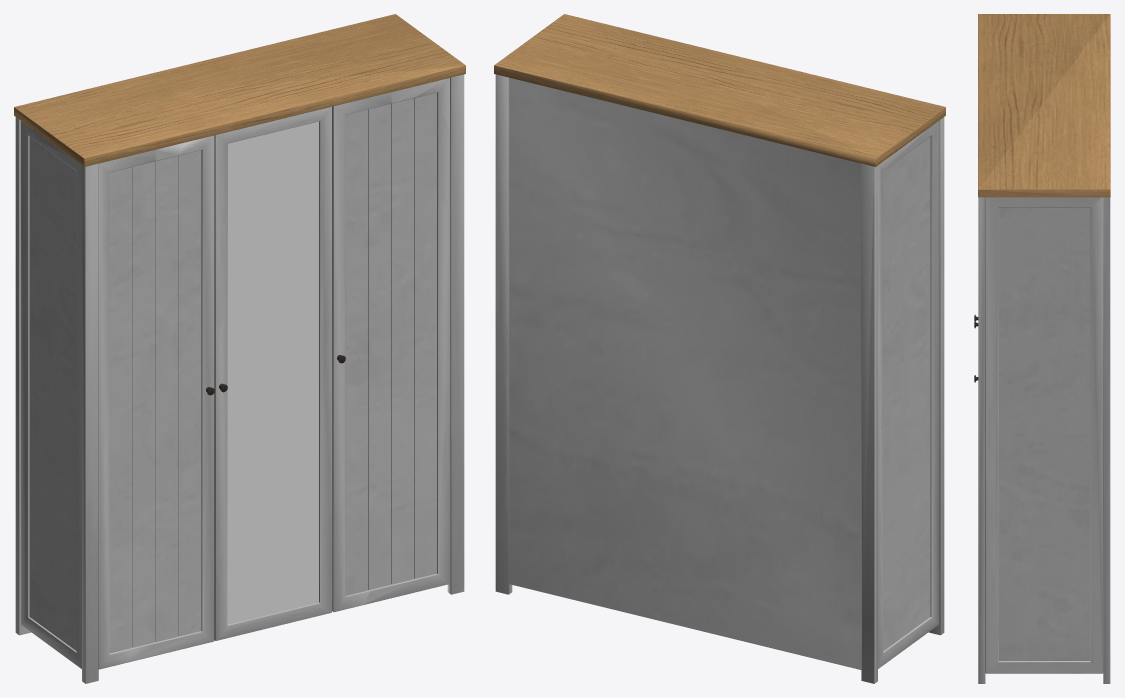
3 renders of one model, left to right at view 1: azimuth 30°, elevation 25°; view 2: azimuth 150°, elevation 25°; view 3: azimuth 270°, elevation 25°, orthographic. The views are drawn at different scales.
Parts seen in each view (by area): view 1: Object_78, Object_81, Object_79; view 2: Object_78, Object_79; view 3: Object_78, Object_79.
Part boxes in pixels (x1,y1,x2,y2): Object_78: [15, 74, 464, 683]; Object_81: [227, 121, 318, 624]; Object_79: [14, 14, 465, 166]; Object_78: [495, 74, 944, 683]; Object_79: [494, 14, 945, 166]; Object_78: [978, 197, 1110, 683]; Object_79: [978, 14, 1110, 197].
Size of the model in its own units: 1.55 by 2.04 by 0.508.
Materials: 4 (2 with a texture image).
